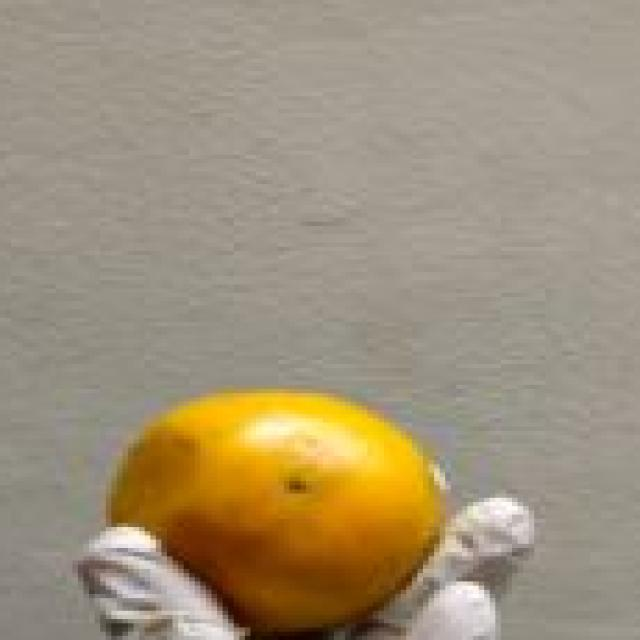Bad_Orange-0-1 day: (106, 389, 451, 640)
